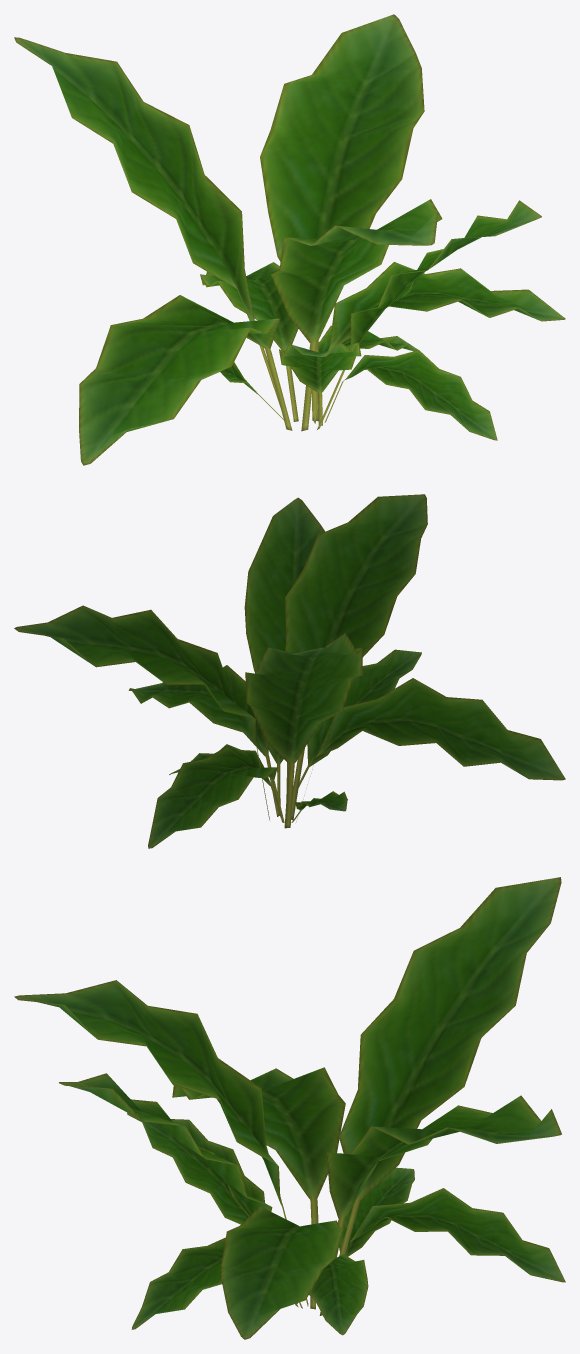
File: plante-7.glb
3 renders of one model, top to bottom at view 1: azimuth 30°, elevation 25°; view 2: azimuth 150°, elevation 25°; view 3: azimuth 270°, elevation 25°, orthographic. The views are drawn at different scales.
Visible parts, largest first — view 1: Object_5.469; view 2: Object_5.469; view 3: Object_5.469.
Part boxes in pixels (left/top/right/bottom): Object_5.469: left=14, top=14, right=565, bottom=465; Object_5.469: left=14, top=494, right=565, bottom=848; Object_5.469: left=14, top=877, right=565, bottom=1339.
Size of the model in its own units: 0.6825 by 0.4407 by 0.6333.
Materials: 1 (1 with a texture image).
